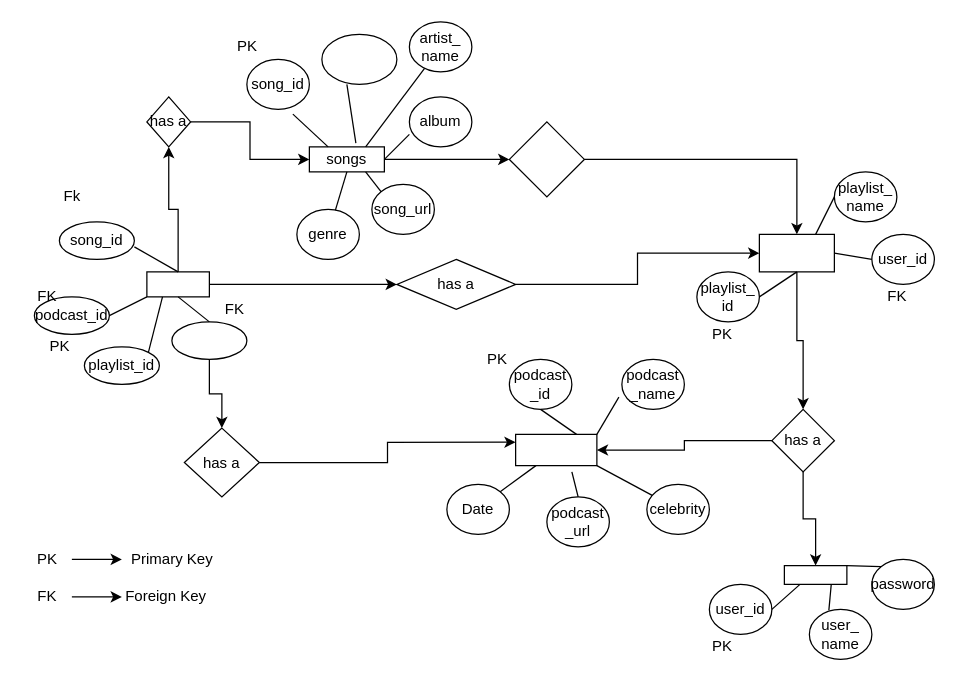
Image size: 956x688. Some labels were removed from this diagram. The shapes that lost their labels are listed below. From the top down, each one's centre as x and y in pixels, then its label:
pixel 359 58: song_ name
pixel 546 159: hasa
pixel 796 252: playlist
pixel 177 284: Audio
pixel 209 340: Audio_id
pixel 555 449: podcast
pixel 815 574: user
